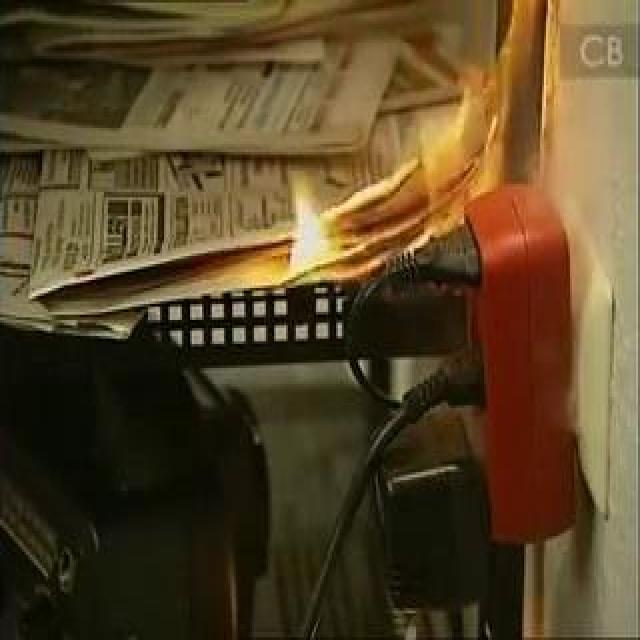Fire: (232, 2, 524, 314)
